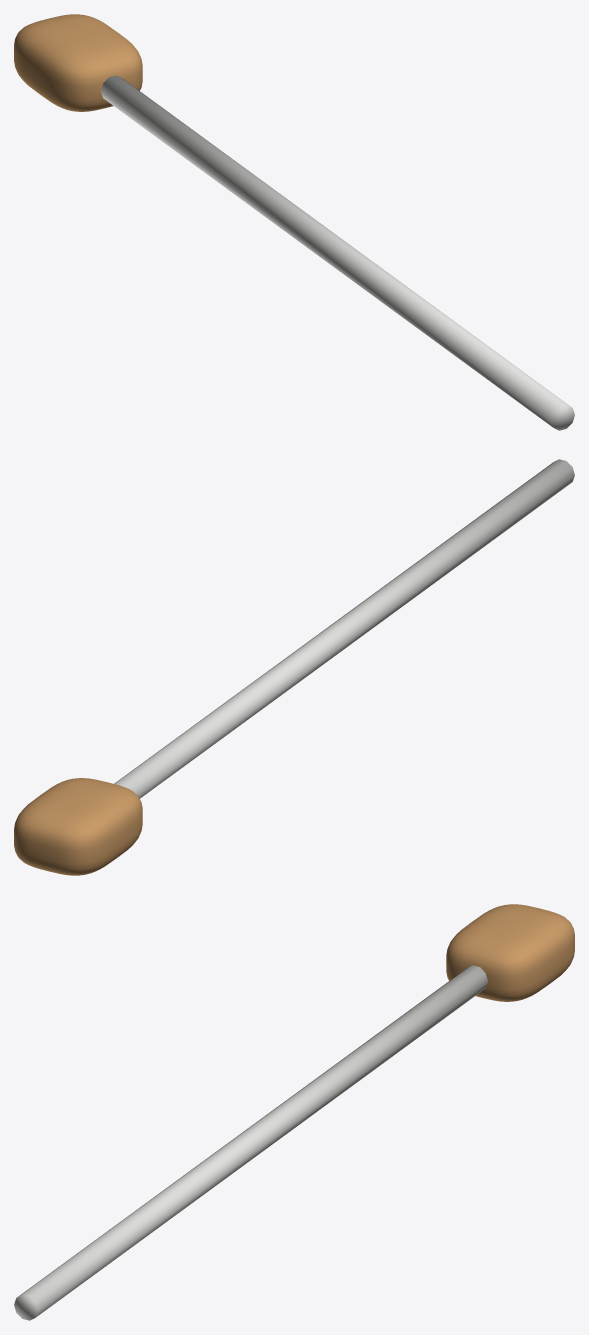
File: iodine_swab.glb
3 renders of one model, top to bottom at view 1: azimuth 30°, elevation 25°; view 2: azimuth 150°, elevation 25°; view 3: azimuth 330°, elevation 25°, orthographic.
Parts seen in each view (by area): view 1: Stick, Sponge; view 2: Stick, Sponge; view 3: Stick, Sponge.
Part boxes in pixels (box(x1,y1,x2,y2)): Stick: box(101, 75, 574, 430); Sponge: box(14, 14, 142, 111); Stick: box(114, 459, 574, 798); Sponge: box(14, 778, 142, 875); Stick: box(14, 965, 487, 1320); Sponge: box(446, 904, 574, 1001).
Size of the model in its own units: 0.022 by 0.014 by 0.223.
